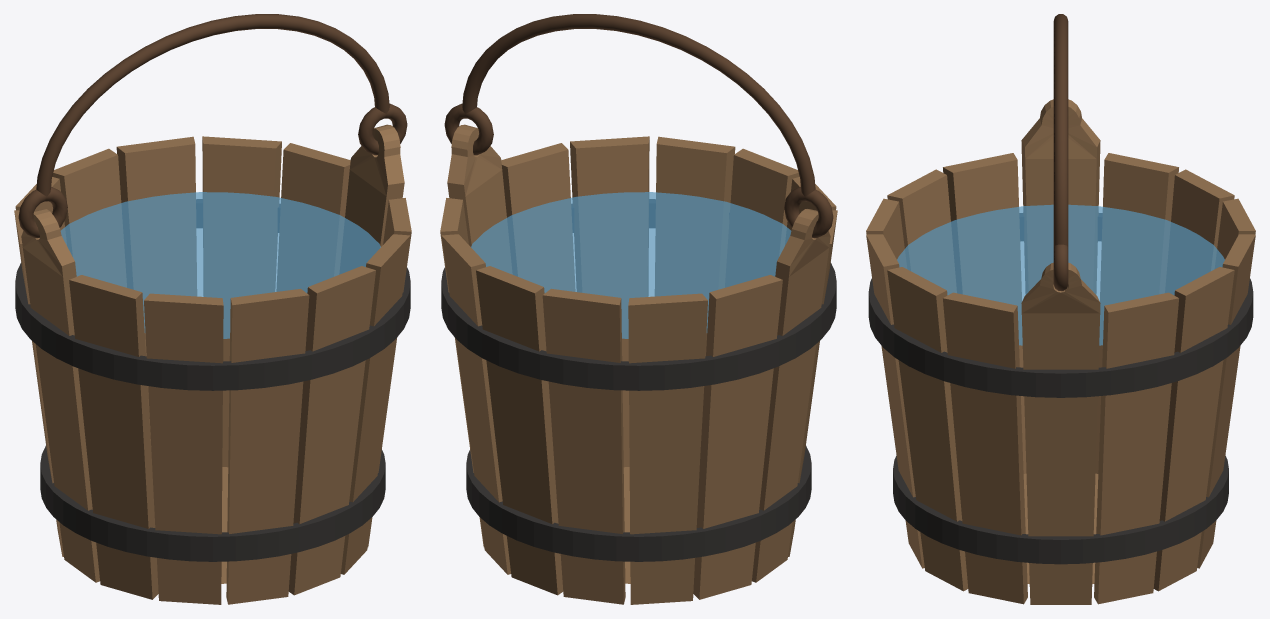
Rendered from BucketFull.fbx.
The picture shows the model from 3 angles, left to right: view 1: azimuth 30°, elevation 25°; view 2: azimuth 150°, elevation 25°; view 3: azimuth 270°, elevation 25°; orthographic projection. The views are drawn at different scales.
Parts seen in each view (by area): view 1: bucket_wood, bucket_water, bucket_bronze, bucket_leather; view 2: bucket_wood, bucket_water, bucket_bronze, bucket_leather; view 3: bucket_wood, bucket_water, bucket_bronze, bucket_leather.
Boxes of the visible parts, x1,y1,x2,y2 form: bucket_wood: (14,124,411,604); bucket_water: (60,192,380,338); bucket_bronze: (15,199,410,561); bucket_leather: (18,14,407,238); bucket_wood: (440,124,837,604); bucket_water: (471,192,791,338); bucket_bronze: (441,199,836,561); bucket_leather: (444,14,833,238); bucket_wood: (866,99,1255,604); bucket_water: (897,204,1224,345); bucket_bronze: (868,213,1253,564); bucket_leather: (1053,14,1068,290).
Bounding box in the file's own units: 0.3564 × 0.4557 × 0.3199.
